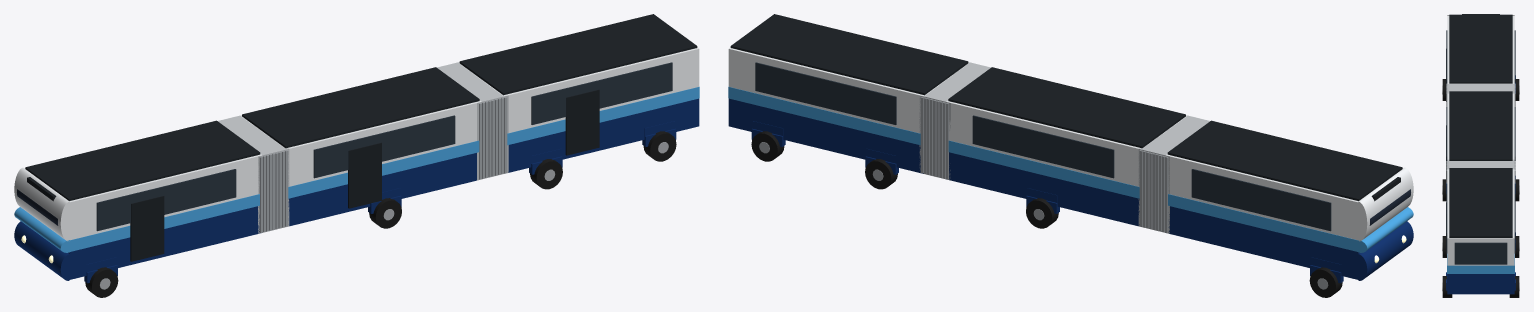
File: biarticulado-azul.glb
The picture shows the model from 3 angles, left to right: view 1: azimuth 30°, elevation 25°; view 2: azimuth 150°, elevation 25°; view 3: azimuth 270°, elevation 25°; orthographic projection. The views are drawn at different scales.
Bounding box in the file's own units: 20.38 × 3.11 × 2.93.
